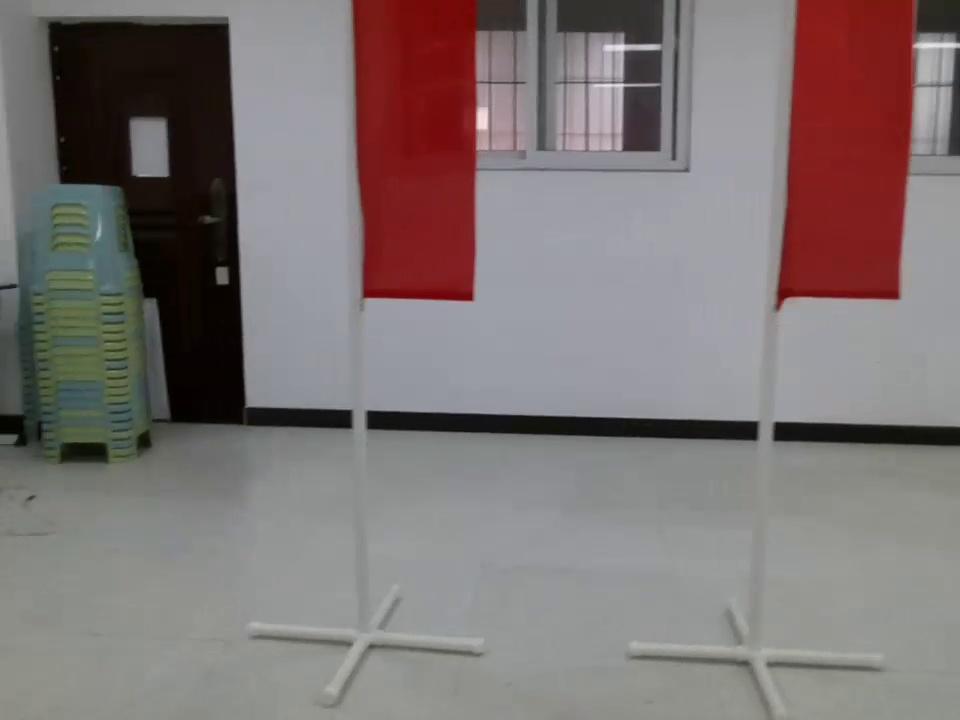qi: (770, 2, 904, 304), (358, 1, 478, 300)
